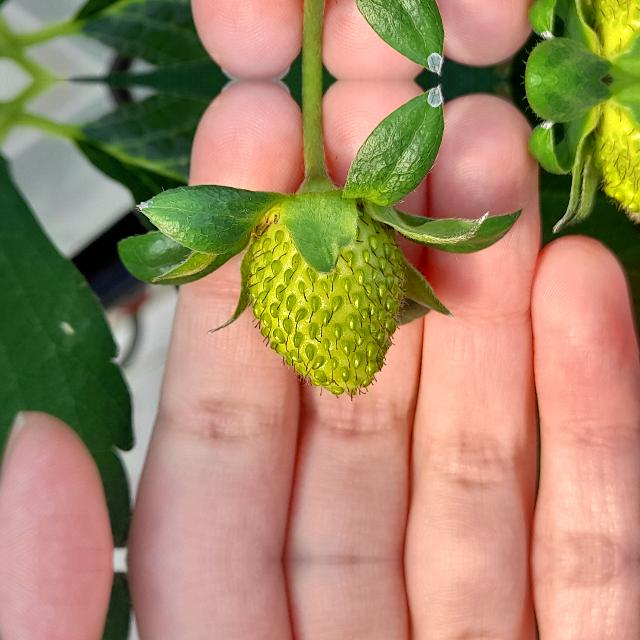Health_25: (245, 202, 408, 400)
